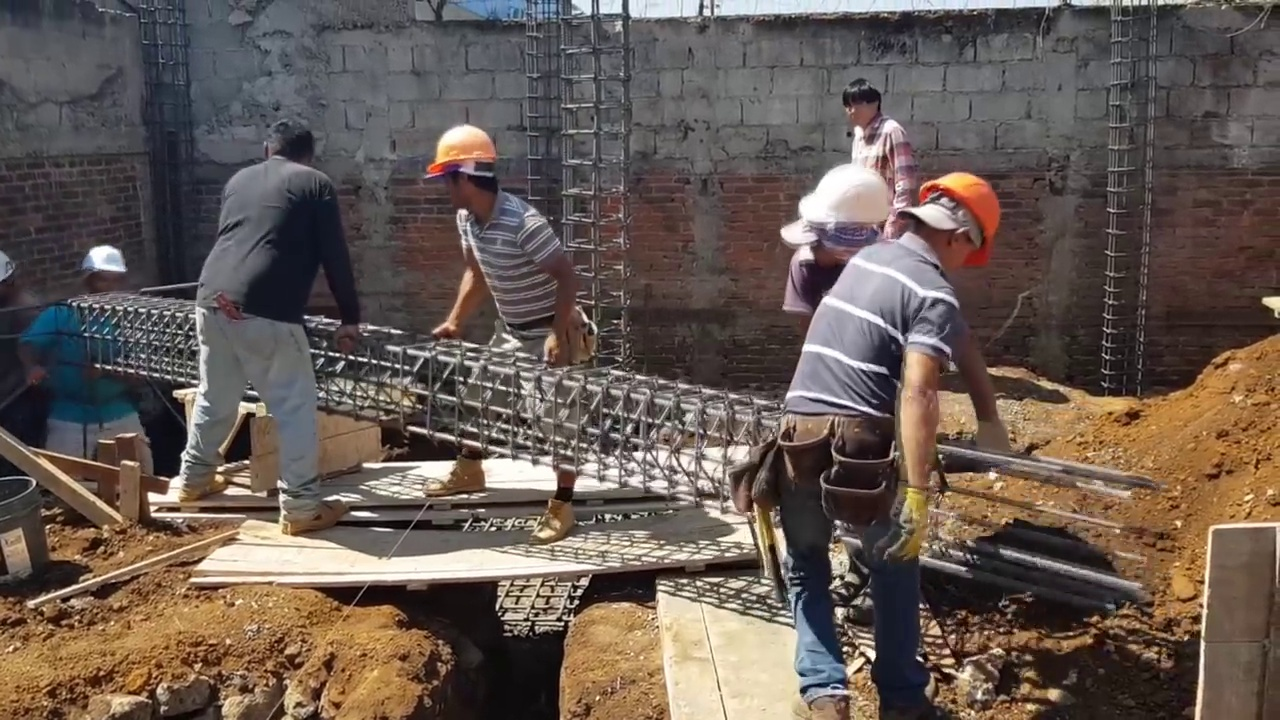helmet: (920, 164, 1003, 265), (796, 162, 893, 229), (420, 124, 502, 181), (81, 247, 128, 276)
helmet-off: (260, 121, 313, 168), (841, 77, 883, 129)
helmet-on: (897, 161, 1003, 276), (785, 161, 893, 269), (421, 126, 501, 218), (79, 241, 126, 297)
person: (775, 162, 1003, 720), (166, 119, 353, 532), (418, 123, 581, 541), (20, 243, 159, 473), (779, 159, 918, 327), (838, 74, 922, 202)
